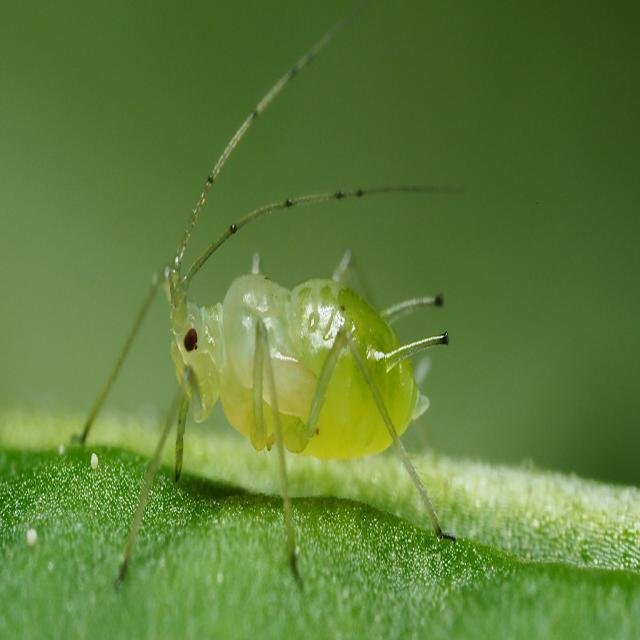Aphids: (66, 7, 483, 606)
